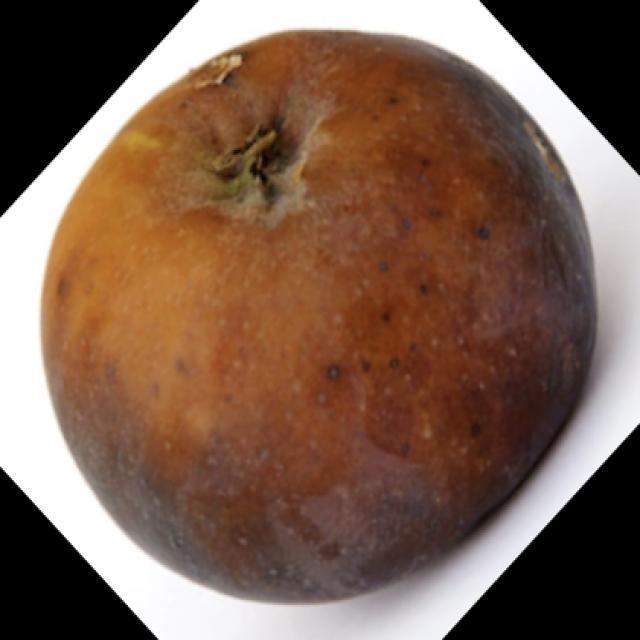Rotten: (41, 24, 596, 588)
